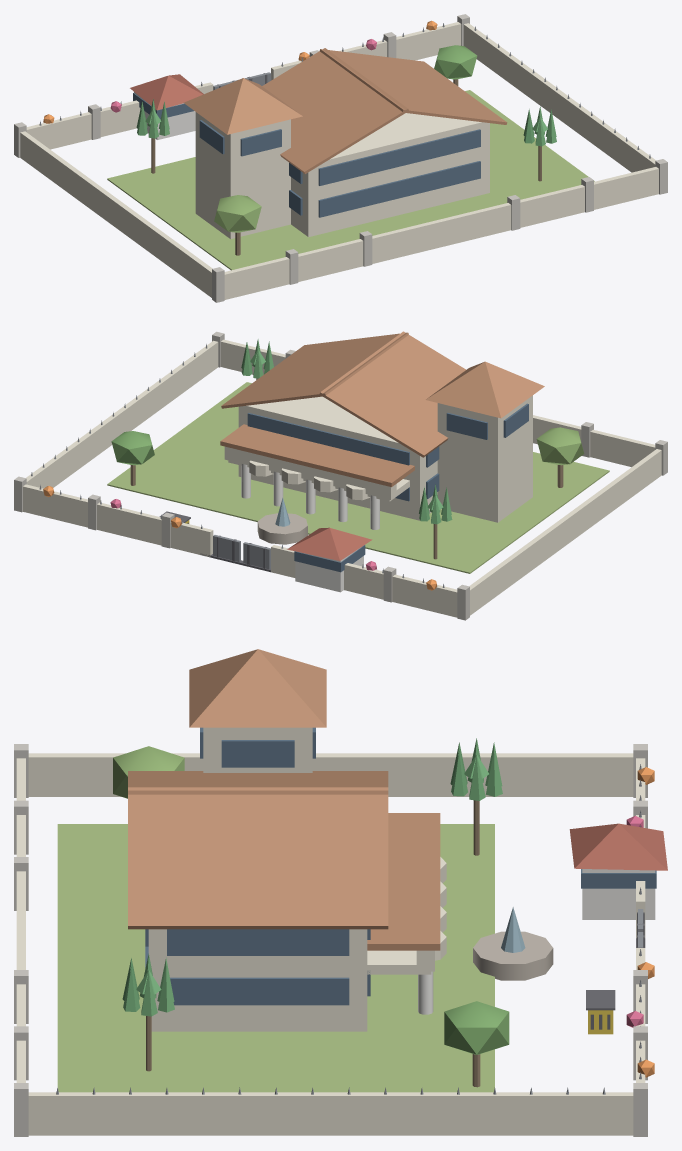
Rendered from villa_maitama_3.glb.
3 renders of one model, top to bottom at view 1: azimuth 30°, elevation 25°; view 2: azimuth 150°, elevation 25°; view 3: azimuth 270°, elevation 25°, orthographic. The views are drawn at different scales.
Visible parts, largest first — view 1: BLD_villa_maitama_3; view 2: BLD_villa_maitama_3; view 3: BLD_villa_maitama_3.
Part boxes in pixels (x1,y1,x2,y2): BLD_villa_maitama_3: [14, 14, 667, 302]; BLD_villa_maitama_3: [14, 331, 667, 620]; BLD_villa_maitama_3: [14, 649, 667, 1136].
Bounding box in the file's own units: 44.8 × 13.5 × 35.9.
